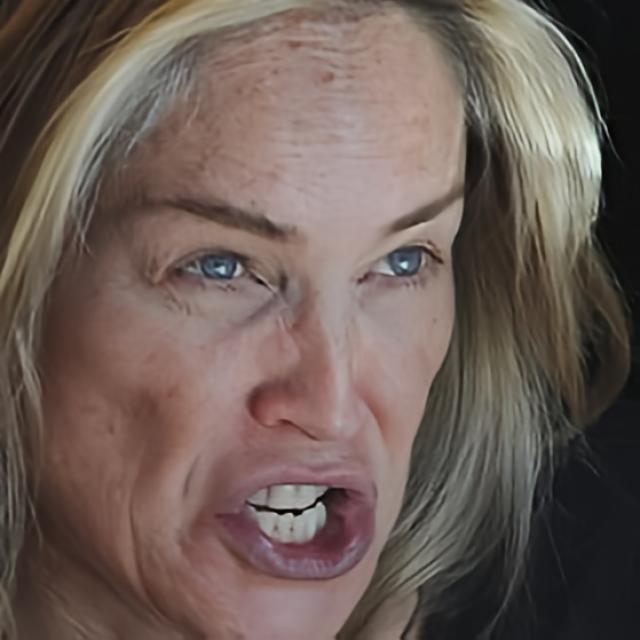anger: (48, 60, 463, 640)
